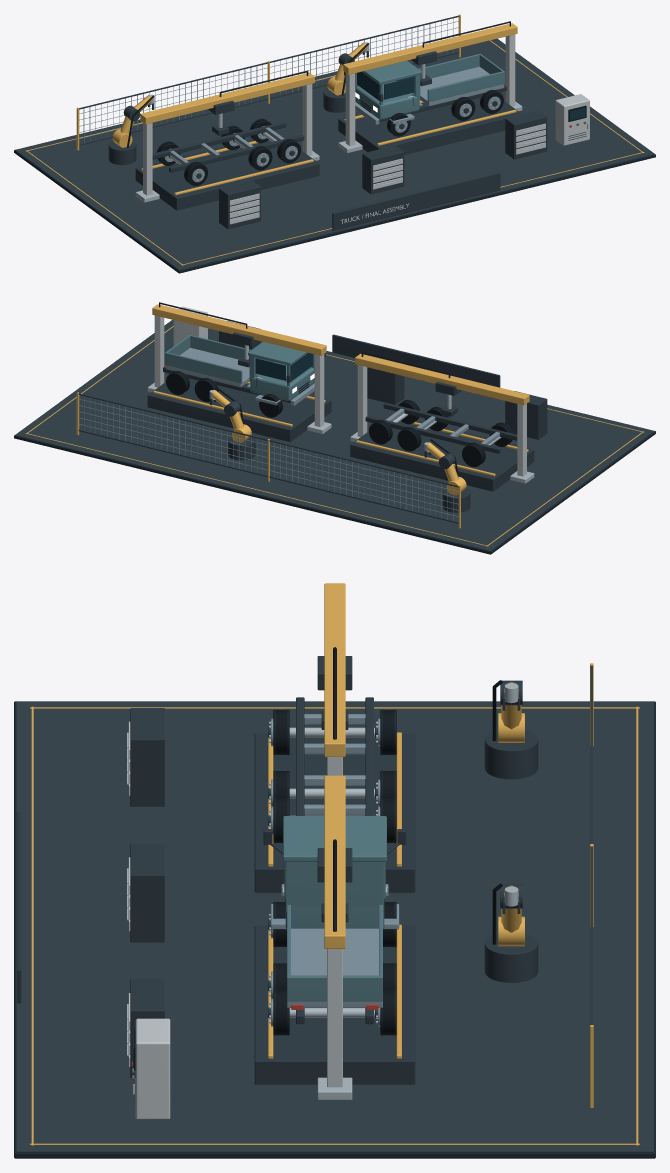
The model's file is final-assembly.glb.
3 renders of one model, top to bottom at view 1: azimuth 30°, elevation 25°; view 2: azimuth 150°, elevation 25°; view 3: azimuth 270°, elevation 25°, orthographic. The views are drawn at different scales.
Parts seen in each view (by area): view 1: final_assembly_Workshop_Epoxy, final_assembly_Enamel_Graphite, final_assembly_Safety_Amber, final_assembly_Enamel_Pearl, final_assembly_Brushed_Aluminium, final_assembly_Truck_Petrol, final_assembly_Rubber_Seal, final_assembly_Cast_Base, final_assembly_Machined_Steel, final_assembly_Display_Glass; view 2: final_assembly_Workshop_Epoxy, final_assembly_Enamel_Graphite, final_assembly_Safety_Amber, final_assembly_Brushed_Aluminium, final_assembly_Truck_Petrol, final_assembly_Rubber_Seal, final_assembly_Enamel_Pearl, final_assembly_Cast_Base, final_assembly_Machined_Steel, final_assembly_Display_Glass; view 3: final_assembly_Workshop_Epoxy, final_assembly_Enamel_Graphite, final_assembly_Safety_Amber, final_assembly_Truck_Petrol, final_assembly_Rubber_Seal, final_assembly_Cast_Base, final_assembly_Brushed_Aluminium, final_assembly_Enamel_Pearl, final_assembly_Machined_Steel.
Part boxes in pixels (x1,y1,x2,y2): final_assembly_Workshop_Epoxy: (15, 39, 654, 270); final_assembly_Enamel_Graphite: (79, 15, 586, 230); final_assembly_Safety_Amber: (26, 14, 644, 265); final_assembly_Enamel_Pearl: (143, 34, 589, 224); final_assembly_Brushed_Aluminium: (79, 18, 503, 182); final_assembly_Truck_Petrol: (355, 53, 505, 119); final_assembly_Rubber_Seal: (127, 21, 586, 185); final_assembly_Cast_Base: (14, 39, 655, 273); final_assembly_Machined_Steel: (135, 42, 588, 220); final_assembly_Display_Glass: (357, 72, 585, 120); final_assembly_Workshop_Epoxy: (15, 320, 654, 551); final_assembly_Enamel_Graphite: (78, 321, 547, 523); final_assembly_Safety_Amber: (25, 304, 644, 546); final_assembly_Brushed_Aluminium: (78, 347, 499, 520); final_assembly_Truck_Petrol: (164, 334, 314, 400); final_assembly_Rubber_Seal: (159, 302, 512, 476); final_assembly_Enamel_Pearl: (154, 306, 526, 476); final_assembly_Cast_Base: (14, 320, 655, 554); final_assembly_Machined_Steel: (147, 345, 534, 483); final_assembly_Display_Glass: (255, 353, 312, 380); final_assembly_Workshop_Epoxy: (16, 701, 653, 1152); final_assembly_Enamel_Graphite: (17, 656, 592, 1106); final_assembly_Safety_Amber: (30, 583, 639, 1145); final_assembly_Truck_Petrol: (283, 816, 386, 1001); final_assembly_Rubber_Seal: (134, 647, 502, 1070); final_assembly_Cast_Base: (14, 701, 655, 1158); final_assembly_Brushed_Aluminium: (270, 714, 399, 1026); final_assembly_Enamel_Pearl: (128, 721, 342, 1119); final_assembly_Machined_Steel: (127, 683, 518, 1099).
Bounding box in the file's own units: 20 × 3.64 × 12.
